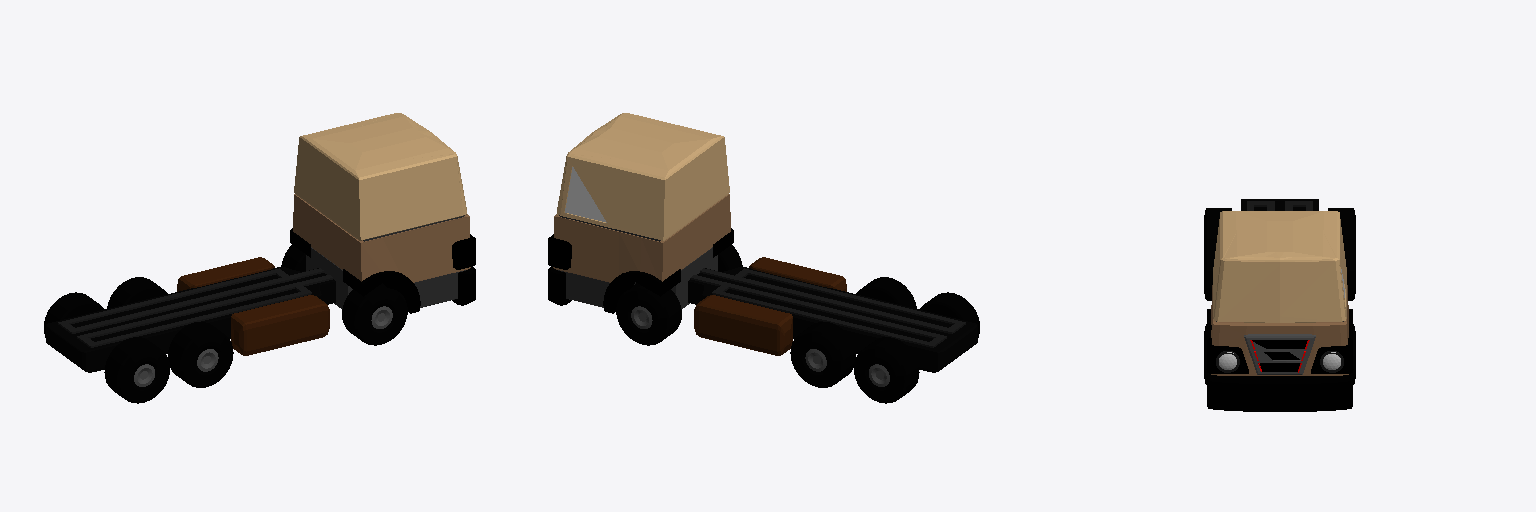
Rendered from truck.obj.
The picture shows the model from 3 angles: view 1: azimuth 30°, elevation 25°; view 2: azimuth 150°, elevation 25°; view 3: azimuth 270°, elevation 25°; orthographic projection.
Parts seen in each view (by area): view 1: Body.002_Cube.005, Body.001_Cube.004, Body.009_Cube.012, Body.028_Cube.013, Wheel.002_Cylinder.007, Wheel.005_Cylinder.011, Body.012_Cube.015, Body.011_Cube.014, Wheel.001_Cylinder.006, Body.027_Cube.053, Body.015_Cylinder.003, Wheel.003_Cylinder.008 (+5 smaller); view 2: Body.002_Cube.005, Body.001_Cube.004, Body.009_Cube.012, Body.027_Cube.053, Wheel.003_Cylinder.008, Wheel.004_Cylinder.010, Body.011_Cube.014, Body.012_Cube.015, Wheel_Cylinder.004, Body.028_Cube.013, Body.010_Cylinder.002, Wheel.002_Cylinder.007 (+6 smaller); view 3: Body.002_Cube.005, Body.003_Cube.006, Body.001_Cube.004, Body.014_Cube.017, Body.013_Cube.008, Body.023_Cube.029, Wheel.005_Cylinder.011, Wheel.004_Cylinder.010.
Boxes of the visible parts, box(x1,y1,x2,y2) form: Body.002_Cube.005: box(294, 113, 466, 240); Body.001_Cube.004: box(293, 194, 470, 282); Body.009_Cube.012: box(46, 266, 335, 372); Body.028_Cube.013: box(231, 295, 329, 355); Wheel.002_Cylinder.007: box(104, 337, 169, 403); Wheel.005_Cylinder.011: box(168, 322, 233, 387); Body.012_Cube.015: box(58, 268, 323, 333); Body.011_Cube.014: box(77, 275, 333, 347); Wheel.001_Cylinder.006: box(342, 283, 407, 345); Body.027_Cube.053: box(177, 257, 274, 291); Body.015_Cylinder.003: box(343, 269, 420, 313); Wheel.003_Cylinder.008: box(44, 292, 104, 337); Body.002_Cube.005: box(557, 113, 729, 240); Body.001_Cube.004: box(553, 194, 730, 282); Body.009_Cube.012: box(688, 266, 977, 372); Body.027_Cube.053: box(694, 295, 792, 355); Wheel.003_Cylinder.008: box(854, 337, 919, 403); Wheel.004_Cylinder.010: box(790, 322, 855, 387); Body.011_Cube.014: box(700, 268, 965, 333); Body.012_Cube.015: box(690, 275, 946, 347); Wheel_Cylinder.004: box(616, 283, 681, 345); Body.028_Cube.013: box(749, 257, 846, 291); Body.010_Cylinder.002: box(603, 269, 680, 313); Wheel.002_Cylinder.007: box(919, 292, 979, 337); Body.002_Cube.005: box(1213, 211, 1346, 322); Body.003_Cube.006: box(1207, 373, 1352, 411); Body.001_Cube.004: box(1211, 285, 1348, 375); Body.014_Cube.017: box(1244, 334, 1315, 374); Body.013_Cube.008: box(1311, 338, 1353, 373); Body.023_Cube.029: box(1206, 338, 1248, 373); Wheel.005_Cylinder.011: box(1204, 239, 1216, 300); Wheel.004_Cylinder.010: box(1343, 239, 1355, 300).
Bounding box in the file's own units: 24.93 × 10.39 × 8.6.